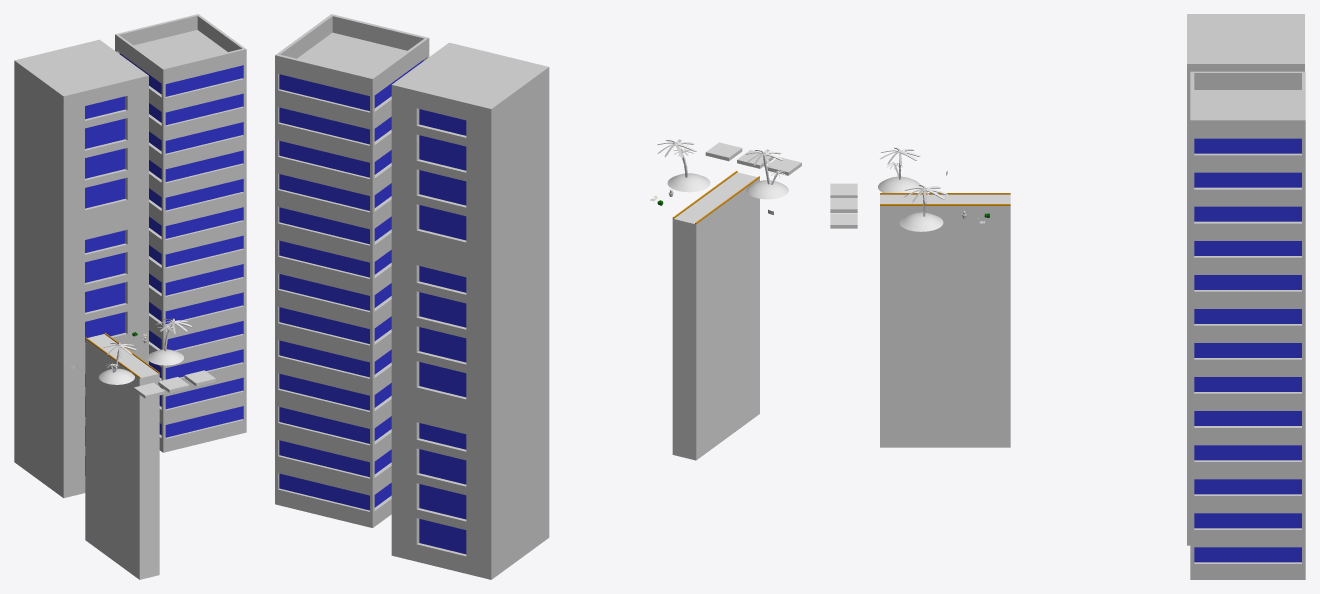
File: Environment.fbx
3 views of the same model, side by side, from view 1: azimuth 30°, elevation 25°; view 2: azimuth 150°, elevation 25°; view 3: azimuth 270°, elevation 25° (orthographic). The views are drawn at different scales.
Visible parts, largest first — view 1: Cube, Cube.055, Yol, Adacik2, Adacik1, PuanZemin.002, PuanZemin, PuanZemin.001, Palmiye2; view 2: Cube, Cube.055, Yol; view 3: Cube.055, Yol, Cube, Adacik2.
Boxes of the visible parts, x1,y1,x2,y2 form: Cube: (14, 39, 148, 498); Cube.055: (115, 14, 246, 452); Yol: (85, 332, 159, 579); Adacik2: (147, 349, 183, 365); Adacik1: (98, 368, 134, 384); PuanZemin.002: (184, 370, 215, 386); PuanZemin: (134, 382, 165, 398); PuanZemin.001: (158, 377, 189, 392); Palmiye2: (155, 318, 192, 351); Cube: (391, 42, 549, 579); Cube.055: (275, 14, 429, 527); Yol: (672, 171, 759, 460); Cube.055: (1190, 71, 1305, 579); Yol: (880, 193, 1010, 447); Cube: (1187, 14, 1304, 545); Adacik2: (899, 212, 943, 231).
Bounding box in the file's own units: 18559 × 25861 × 23065.
